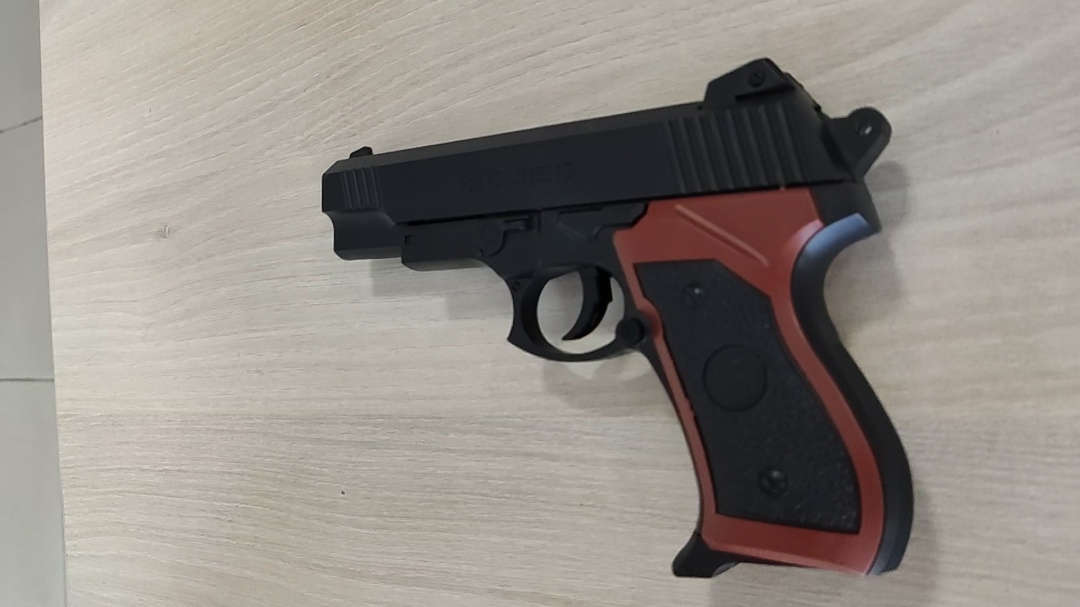gun: (540, 202, 650, 243)
